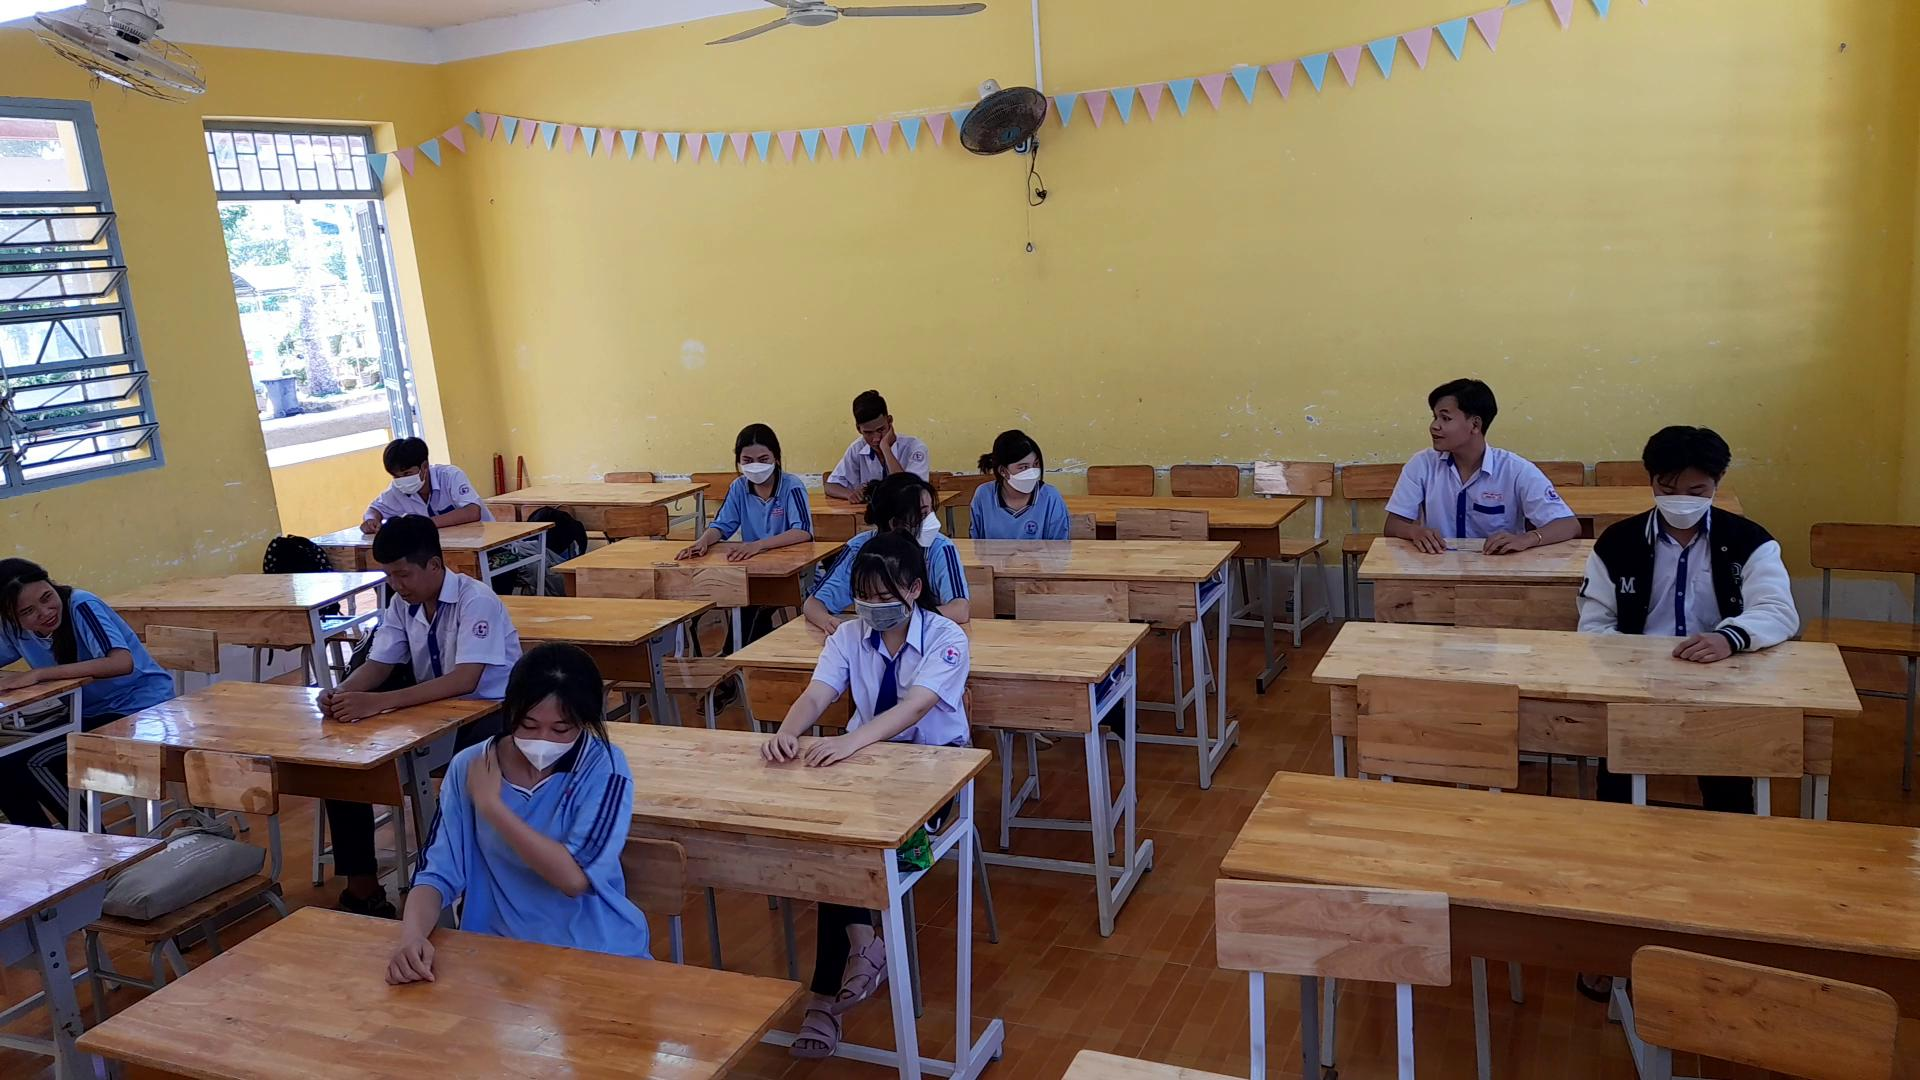Bend Over The Desk: (492, 636, 603, 785), (1631, 400, 1741, 549), (357, 502, 465, 616)
Hand Under Table: (1569, 512, 1633, 638), (1034, 477, 1075, 558)
Look Around: (1404, 367, 1514, 467), (969, 421, 1062, 509), (0, 558, 91, 646)
Normal: (752, 526, 978, 770), (665, 413, 827, 570), (364, 415, 483, 520)
Wave: (459, 757, 642, 899)
